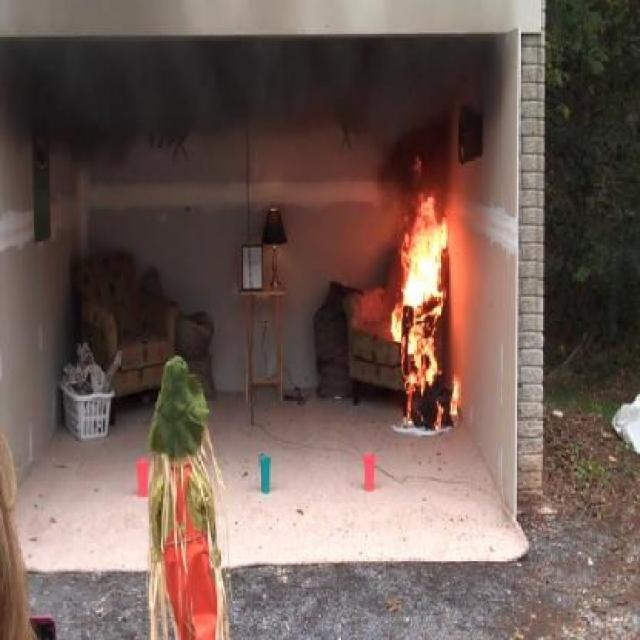fire: (400, 192, 463, 423)
smoke: (26, 51, 388, 154)
